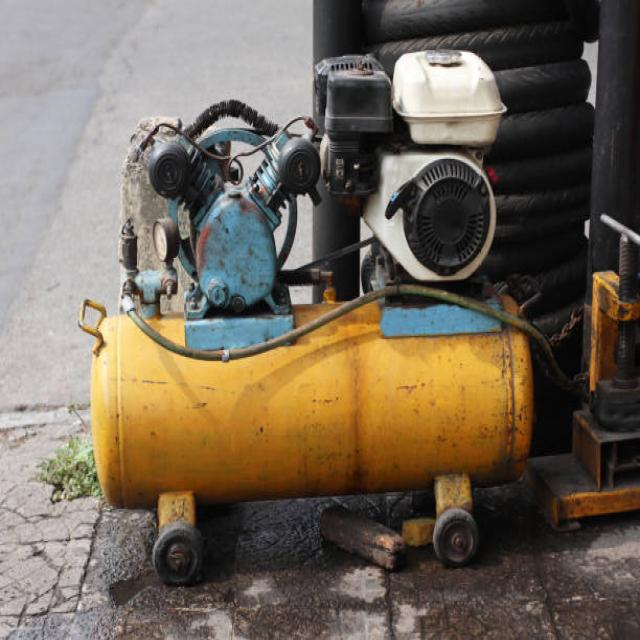compressor: (88, 48, 548, 590)
corrosion detected: (117, 99, 321, 347), (190, 187, 282, 319)
